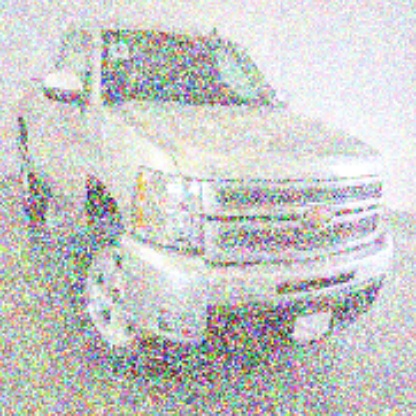Vehicle: (15, 20, 397, 378)
